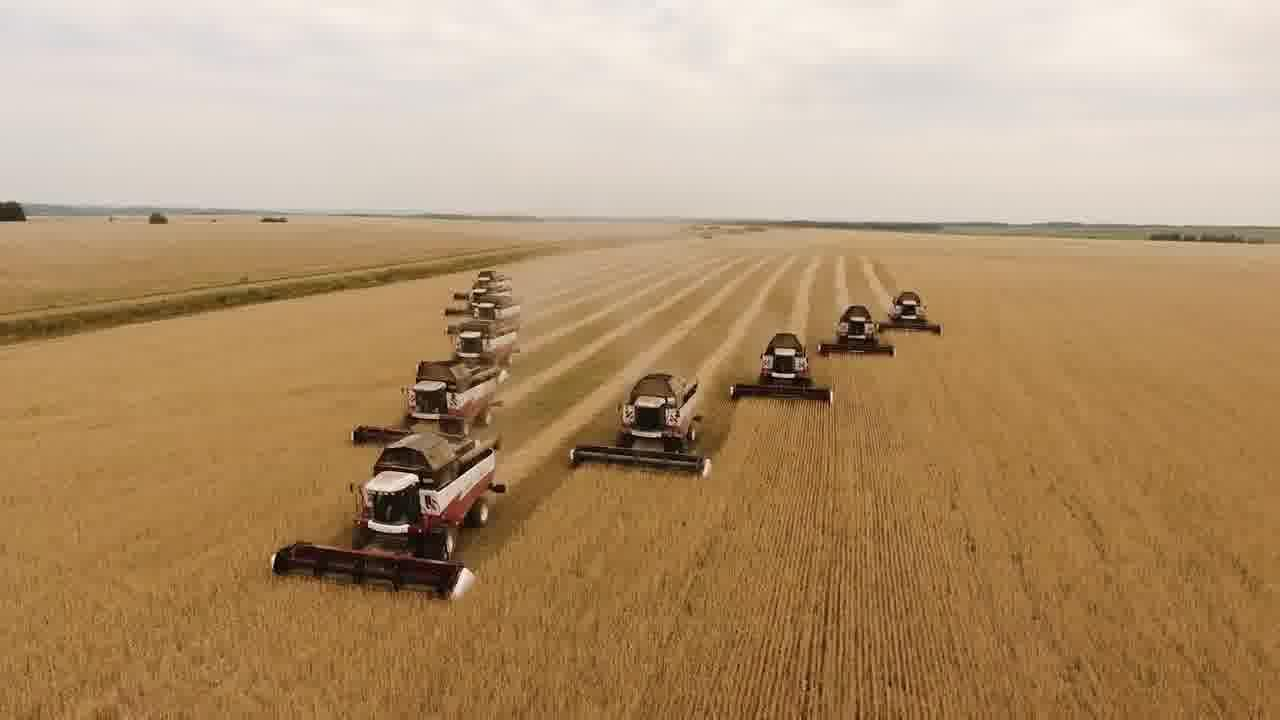combine harvester: (265, 428, 519, 611), (559, 367, 718, 485), (342, 353, 509, 447), (727, 330, 836, 410), (816, 299, 898, 367), (877, 285, 947, 344), (446, 317, 520, 362), (460, 292, 513, 324), (454, 279, 514, 302)
